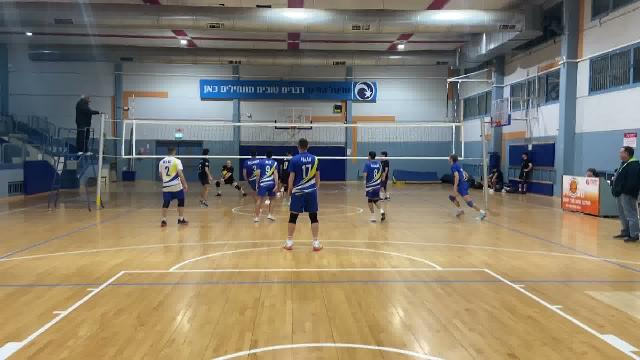ball: (219, 167, 230, 181)
